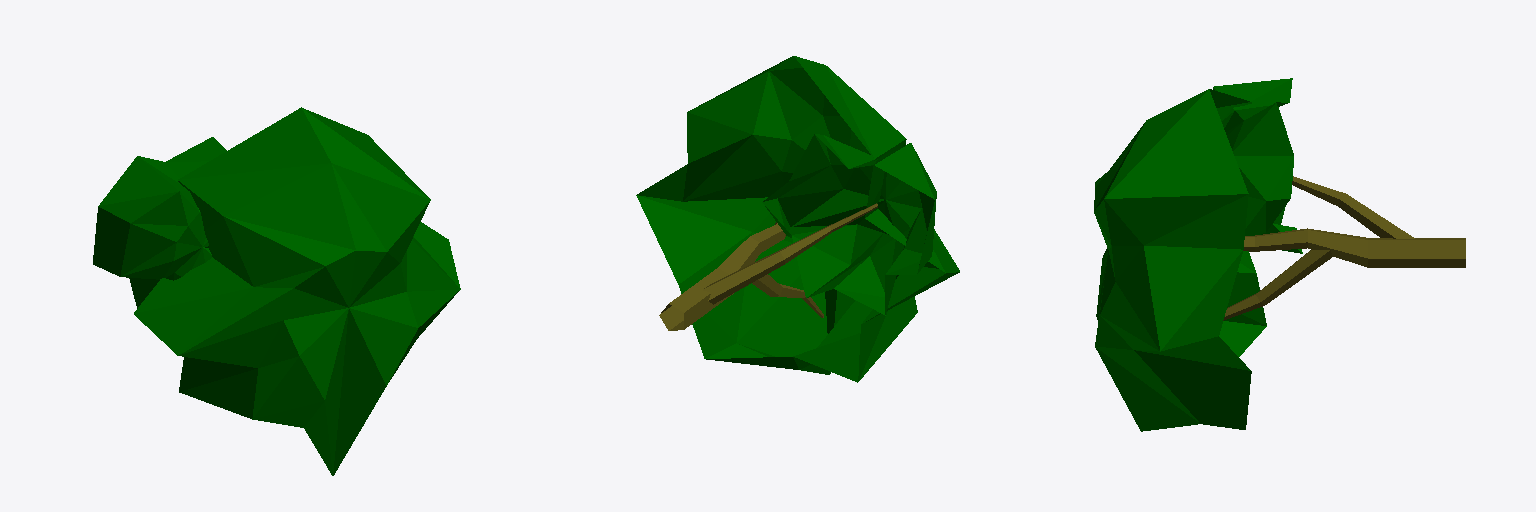
The model's file is LowPoly_Tree_v1.obj.
3 views of the same model, side by side, from view 1: azimuth 30°, elevation 25°; view 2: azimuth 150°, elevation 25°; view 3: azimuth 270°, elevation 25° (orthographic).
Parts seen in each view (by area): view 1: leaves; view 2: leaves, trunks; view 3: leaves, trunks.
Boxes of the visible parts, x1,y1,x2,y2 form: leaves: [93, 107, 460, 475]; leaves: [636, 56, 959, 382]; trunks: [659, 203, 877, 330]; leaves: [1094, 78, 1302, 431]; trunks: [1223, 176, 1465, 320].
Size of the model in its own units: 206 by 209 by 205.